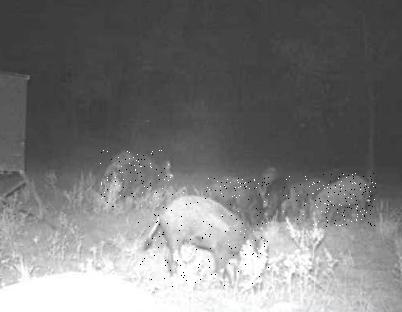Hog: (138, 192, 270, 287), (100, 150, 171, 211), (312, 173, 376, 227), (203, 177, 270, 224), (282, 175, 324, 222)
